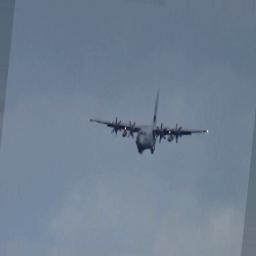Airplane: (91, 106, 208, 157)
